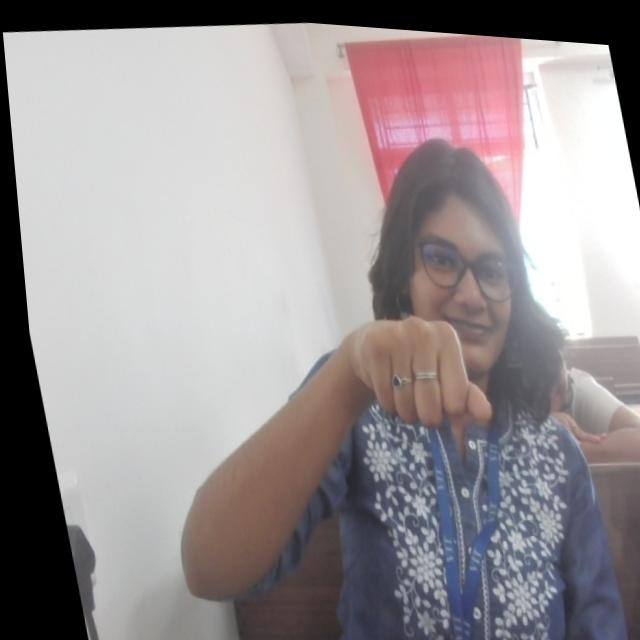yes: (343, 297, 493, 436)
